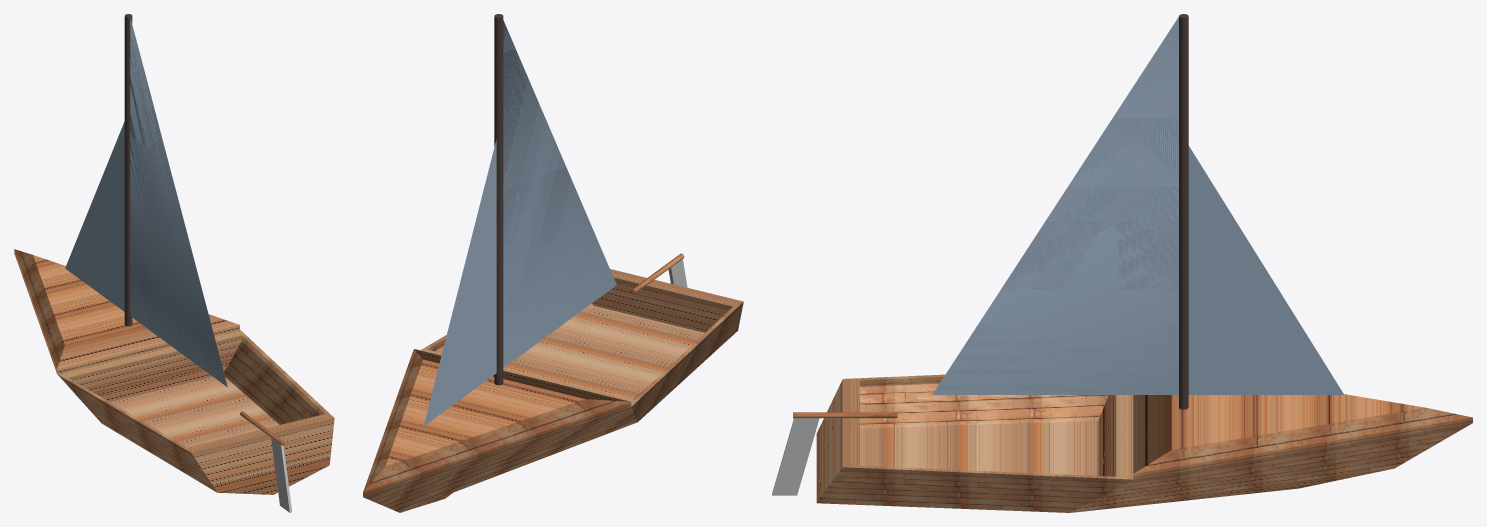
Rendered from woodboat2.obj.
3 views of the same model, side by side, from view 1: azimuth 30°, elevation 25°; view 2: azimuth 150°, elevation 25°; view 3: azimuth 270°, elevation 25° (orthographic). The views are drawn at different scales.
Visible parts, largest first — view 1: Body, SailBack, SailFront, Mast, Cylinder; view 2: Body, SailBack, SailFront, Mast, Cylinder; view 3: Body, SailBack, SailFront, Mast, Cylinder.
Boxes of the visible parts, left/top/right/bottom form: Body: left=14, top=249, right=334, bottom=494; SailBack: left=130, top=18, right=227, bottom=387; SailFront: left=65, top=121, right=124, bottom=311; Mast: left=124, top=14, right=132, bottom=326; Cylinder: left=240, top=411, right=292, bottom=512; Body: left=363, top=269, right=743, bottom=512; SailBack: left=503, top=20, right=616, bottom=367; SailFront: left=423, top=139, right=496, bottom=425; Mast: left=494, top=14, right=503, bottom=385; Cylinder: left=630, top=253, right=687, bottom=294; Body: left=816, top=374, right=1472, bottom=512; SailBack: left=932, top=17, right=1178, bottom=394; SailFront: left=1188, top=146, right=1343, bottom=394; Mast: left=1179, top=14, right=1188, bottom=409; Cylinder: left=772, top=412, right=897, bottom=495.
Bounding box in the file's own units: 2.56 × 5.05 × 6.71.
5 materials, 1 textured.
